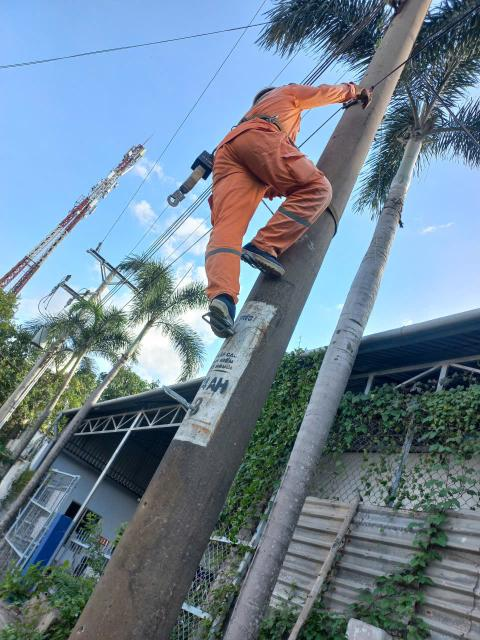gloves: (345, 79, 390, 109)
harness: (235, 110, 287, 142)
helmet: (247, 78, 283, 102)
shoes: (232, 229, 294, 285), (198, 291, 253, 339)
